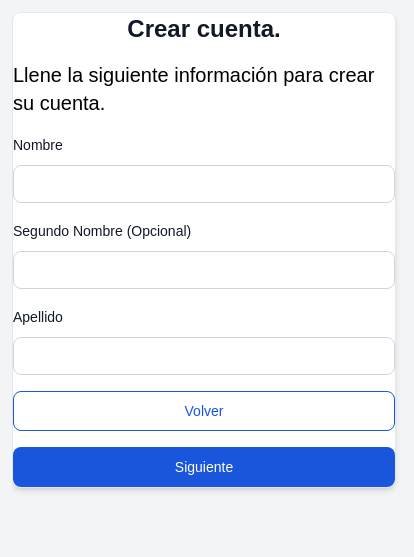
Scenario: PersonalInformation › Form validation › Given a user leaving name and last name input empty, show error
Click the button "Siguiente".
click(204, 467)  # box [13,447,395,487]
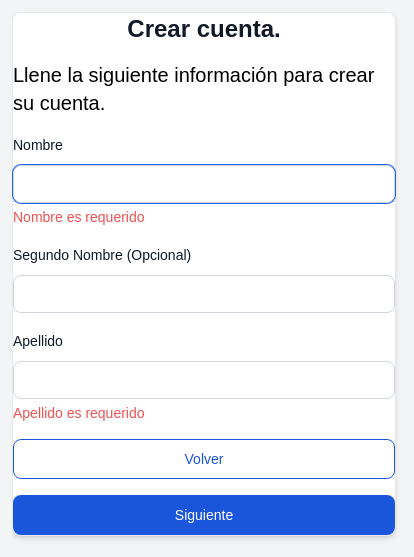
expect the text "Nombre es requerido" is shown: met, box [13,209,144,225]
expect the text "Apellido es requerido" is shown: met, box [13,405,144,421]
